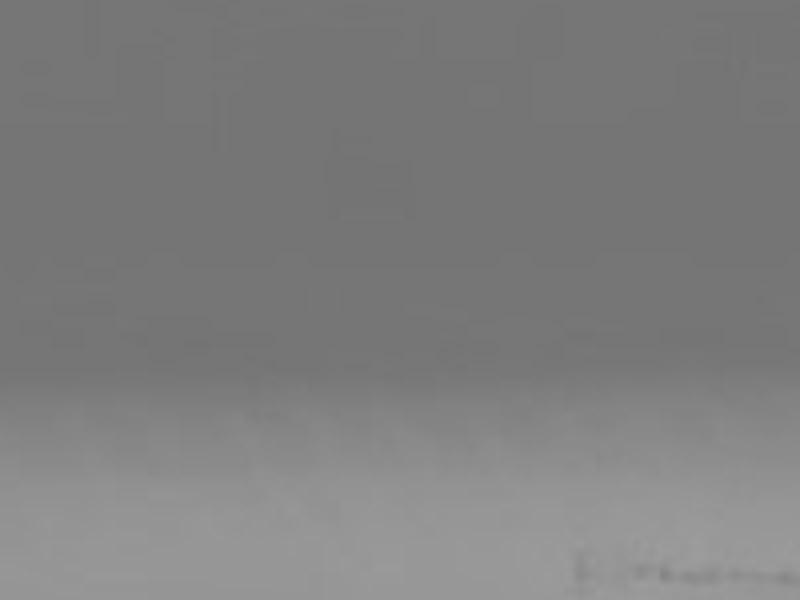defect: (573, 546, 601, 580), (628, 558, 651, 582), (774, 568, 795, 587), (699, 567, 718, 587), (656, 564, 674, 584), (729, 563, 746, 584), (681, 568, 699, 585)
